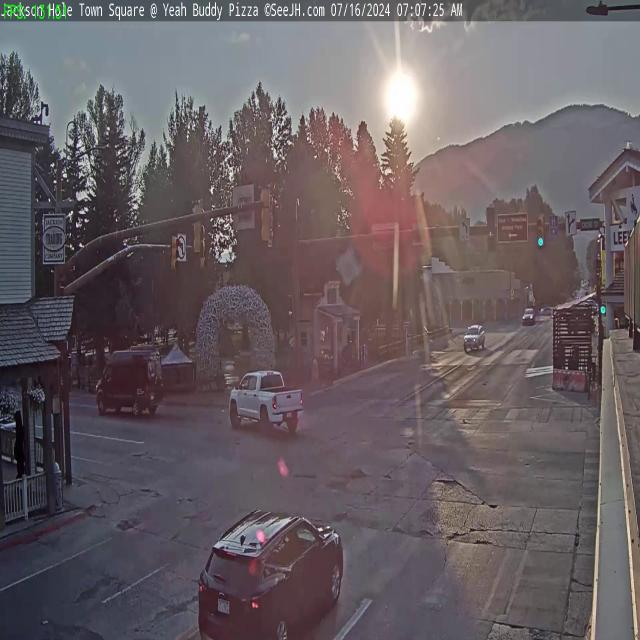pickup: (228, 374, 304, 428)
suv: (195, 502, 348, 639), (464, 323, 486, 353)
traffic light: (260, 184, 274, 245), (190, 199, 203, 256), (487, 207, 496, 252), (170, 233, 180, 272), (536, 214, 546, 247)
van: (98, 346, 162, 425)
